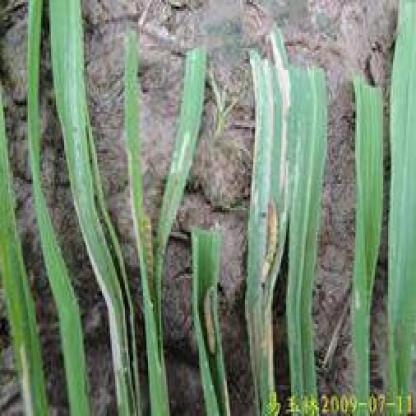leaf-folder: (195, 280, 234, 364), (250, 191, 286, 277), (136, 213, 160, 298)
